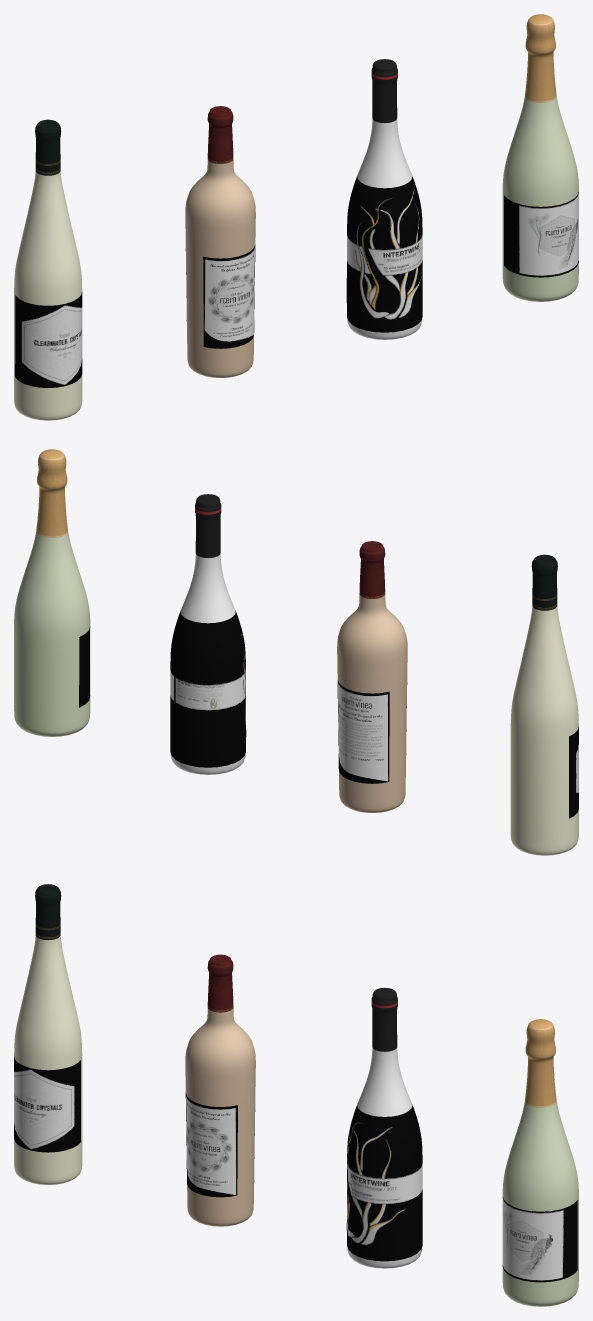
The model's file is wine_bottles_01.glb.
3 views of the same model, one above another, from view 1: azimuth 30°, elevation 25°; view 2: azimuth 150°, elevation 25°; view 3: azimuth 330°, elevation 25° (orthographic).
Visible parts, largest first — view 1: wine_bottles_01_champagne, wine_bottles_01_alsace, wine_bottles_01_burgundy, wine_bottles_01_bordeaux; view 2: wine_bottles_01_champagne, wine_bottles_01_alsace, wine_bottles_01_burgundy, wine_bottles_01_bordeaux; view 3: wine_bottles_01_champagne, wine_bottles_01_alsace, wine_bottles_01_burgundy, wine_bottles_01_bordeaux.
Boxes of the visible parts, x1,y1,x2,y2 form: wine_bottles_01_champagne: [502, 14, 578, 301]; wine_bottles_01_alsace: [14, 119, 82, 420]; wine_bottles_01_burgundy: [346, 59, 422, 339]; wine_bottles_01_bordeaux: [185, 106, 255, 377]; wine_bottles_01_champagne: [14, 449, 90, 736]; wine_bottles_01_alsace: [510, 554, 578, 855]; wine_bottles_01_burgundy: [170, 494, 246, 774]; wine_bottles_01_bordeaux: [337, 541, 407, 812]; wine_bottles_01_champagne: [502, 1019, 578, 1306]; wine_bottles_01_alsace: [14, 884, 82, 1184]; wine_bottles_01_burgundy: [346, 987, 422, 1268]; wine_bottles_01_bordeaux: [185, 954, 255, 1226].
Size of the model in its own units: 0.6763 by 0.3314 by 0.0805.
9 materials, 6 textured.
